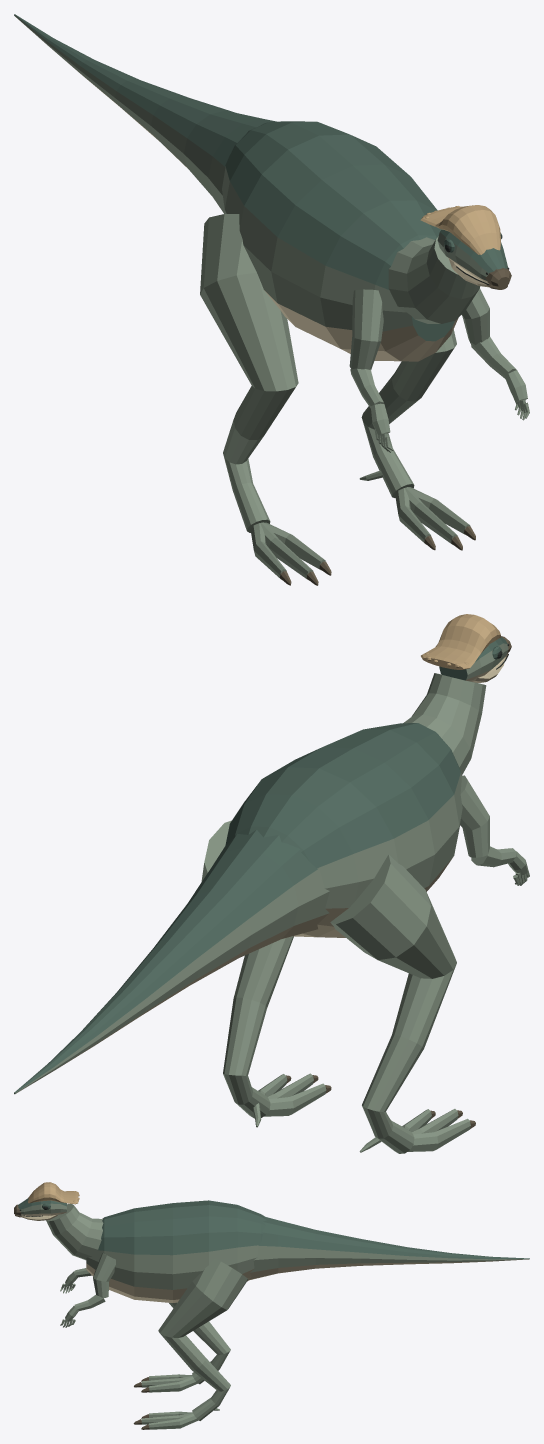
The picture shows the model from 3 angles, top to bottom: view 1: azimuth 30°, elevation 25°; view 2: azimuth 150°, elevation 25°; view 3: azimuth 270°, elevation 25°; orthographic projection. The views are drawn at different scales.
Parts seen in each view (by area): view 1: body_neck_head_and_long_tail, paired_hindlimbs_short_arms, adult_rounded_dome_flat_rear_shelf, short_beak_blunt_digit_tips; view 2: body_neck_head_and_long_tail, paired_hindlimbs_short_arms, adult_rounded_dome_flat_rear_shelf; view 3: body_neck_head_and_long_tail, paired_hindlimbs_short_arms, adult_rounded_dome_flat_rear_shelf.
Part boxes in pixels (left/top/right/bottom): body_neck_head_and_long_tail: left=14, top=14, right=507, bottom=361; paired_hindlimbs_short_arms: left=200, top=214, right=529, bottom=580; adult_rounded_dome_flat_rear_shelf: left=420, top=205, right=500, bottom=254; short_beak_blunt_digit_tips: left=280, top=268, right=511, bottom=585; body_neck_head_and_long_tail: left=14, top=637, right=508, bottom=1094; paired_hindlimbs_short_arms: left=201, top=775, right=529, bottom=1153; adult_rounded_dome_flat_rear_shelf: left=421, top=614, right=500, bottom=669; body_neck_head_and_long_tail: left=18, top=1198, right=529, bottom=1302; paired_hindlimbs_short_arms: left=60, top=1253, right=247, bottom=1429; adult_rounded_dome_flat_rear_shelf: left=28, top=1182, right=79, bottom=1204.
Size of the model in its own units: 0.5267 by 0.9509 by 2.
